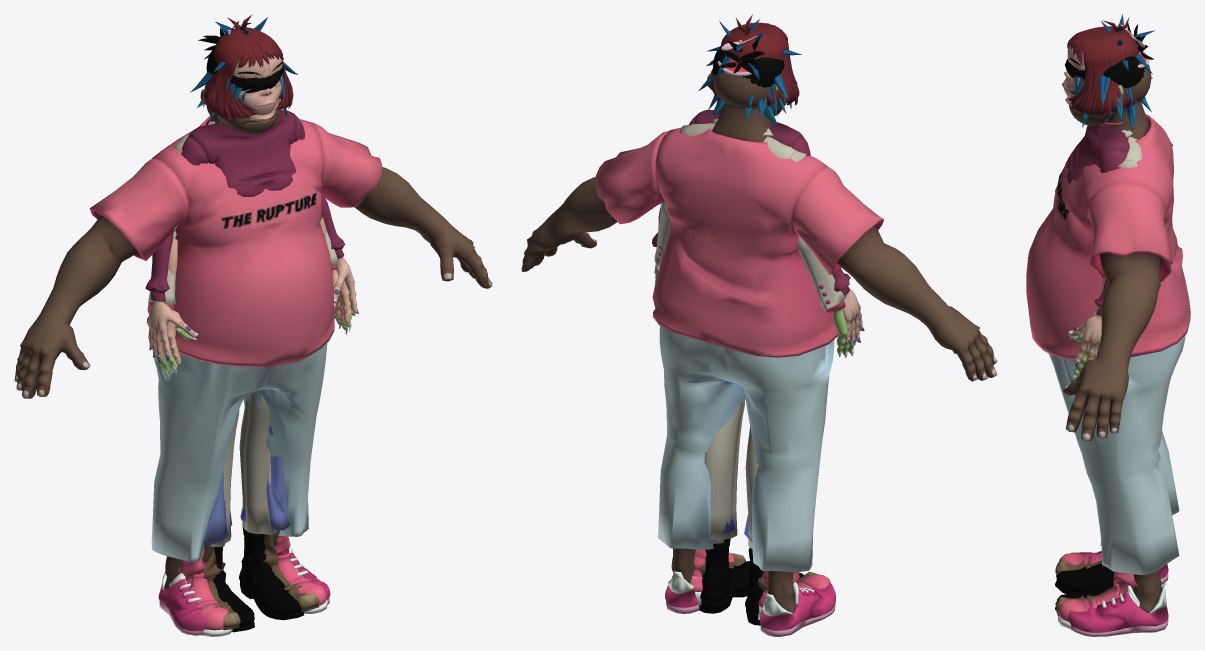
Rendered from gorillaz-phase7-web-v2.glb.
The picture shows the model from 3 angles, left to right: view 1: azimuth 30°, elevation 25°; view 2: azimuth 150°, elevation 25°; view 3: azimuth 270°, elevation 25°; orthographic projection.
Visible parts, largest first — view 1: russel_Russell_CasualClothes.smd, russel_Russell_Body_Cut.smd, noodle_NXA__Noodle_Noodle_Jumper_geo_001.smd, murdoc_Murdoc_SuitPants.smd, noodle_NXA__Noodle_noodle_hair_geo_001.smd, murdoc_Murdoc_SuitShoes.smd, noodle_NXA__Noodle_Noodle_Boots_geo_001.smd, twod_TwoD_Pants_geo.smd, twod_TwoD_Boots_geo.smd, noodle_NXA__Noodle_Noodle_Body_geo_001.smd, noodle_NXA__Noodle_Noodle_Head1_geo_001.smd, twod_TwoD_Body_geo.smd (+4 smaller); view 2: russel_Russell_CasualClothes.smd, russel_Russell_Body_Cut.smd, murdoc_Murdoc_SuitPants.smd, murdoc_Murdoc_SuitShoes.smd, russel_Russell_Head.smd, murdoc_Murdoc_SuitVest.smd, noodle_NXA__Noodle_noodle_hair_geo_001.smd, twod_TwoD_HairFull_geo.smd, murdoc_Murdoc_Hair.smd, noodle_NXA__Noodle_Noodle_Jumper_geo_001.smd, noodle_NXA__Noodle_Noodle_Boots_geo_001.smd, noodle_NXA__Noodle_Noodle_Body_geo_001.smd; view 3: russel_Russell_CasualClothes.smd, russel_Russell_Body_Cut.smd, noodle_NXA__Noodle_noodle_hair_geo_001.smd, noodle_NXA__Noodle_Noodle_Jumper_geo_001.smd, noodle_NXA__Noodle_Noodle_Boots_geo_001.smd, murdoc_Murdoc_SuitShoes.smd, russel_Russell_Head.smd, twod_TwoD_HairFull_geo.smd, murdoc_Murdoc_Hair.smd, noodle_NXA__Noodle_Noodle_Body_geo_001.smd, twod_TwoD_Boots_geo.smd, noodle_NXA__Noodle_Noodle_Head1_geo_001.smd (+1 smaller).
Boxes of the visible parts, bbox=[...] form: russel_Russell_CasualClothes.smd: bbox=[89, 116, 381, 635]; russel_Russell_Body_Cut.smd: bbox=[14, 167, 492, 589]; noodle_NXA__Noodle_Noodle_Jumper_geo_001.smd: bbox=[145, 109, 345, 301]; murdoc_Murdoc_SuitPants.smd: bbox=[210, 393, 277, 546]; noodle_NXA__Noodle_noodle_hair_geo_001.smd: bbox=[204, 15, 293, 119]; murdoc_Murdoc_SuitShoes.smd: bbox=[213, 527, 303, 632]; noodle_NXA__Noodle_Noodle_Boots_geo_001.smd: bbox=[178, 536, 327, 636]; twod_TwoD_Pants_geo.smd: bbox=[203, 425, 289, 545]; twod_TwoD_Boots_geo.smd: bbox=[202, 530, 319, 630]; noodle_NXA__Noodle_Noodle_Body_geo_001.smd: bbox=[148, 257, 358, 363]; noodle_NXA__Noodle_Noodle_Head1_geo_001.smd: bbox=[233, 55, 283, 115]; twod_TwoD_Body_geo.smd: bbox=[163, 217, 350, 368]; russel_Russell_CasualClothes.smd: bbox=[595, 127, 883, 636]; russel_Russell_Body_Cut.smd: bbox=[521, 177, 997, 613]; murdoc_Murdoc_SuitPants.smd: bbox=[704, 393, 758, 549]; murdoc_Murdoc_SuitShoes.smd: bbox=[699, 538, 803, 625]; russel_Russell_Head.smd: bbox=[707, 72, 786, 142]; murdoc_Murdoc_SuitVest.smd: bbox=[654, 118, 846, 312]; noodle_NXA__Noodle_noodle_hair_geo_001.smd: bbox=[710, 14, 799, 106]; twod_TwoD_HairFull_geo.smd: bbox=[698, 19, 801, 125]; murdoc_Murdoc_Hair.smd: bbox=[713, 37, 790, 87]; noodle_NXA__Noodle_Noodle_Jumper_geo_001.smd: bbox=[652, 109, 850, 295]; noodle_NXA__Noodle_Noodle_Boots_geo_001.smd: bbox=[690, 549, 830, 619]; noodle_NXA__Noodle_Noodle_Body_geo_001.smd: bbox=[654, 265, 864, 344]; russel_Russell_CasualClothes.smd: bbox=[1026, 114, 1190, 636]; russel_Russell_Body_Cut.smd: bbox=[1063, 252, 1162, 627]; noodle_NXA__Noodle_noodle_hair_geo_001.smd: bbox=[1067, 17, 1138, 119]; noodle_NXA__Noodle_Noodle_Jumper_geo_001.smd: bbox=[1066, 125, 1129, 315]; noodle_NXA__Noodle_Noodle_Boots_geo_001.smd: bbox=[1058, 553, 1137, 628]; murdoc_Murdoc_SuitShoes.smd: bbox=[1055, 563, 1114, 610]; russel_Russell_Head.smd: bbox=[1067, 64, 1151, 139]; twod_TwoD_HairFull_geo.smd: bbox=[1074, 14, 1154, 130]; murdoc_Murdoc_Hair.smd: bbox=[1065, 23, 1153, 87]; noodle_NXA__Noodle_Noodle_Body_geo_001.smd: bbox=[1073, 315, 1101, 366]; twod_TwoD_Boots_geo.smd: bbox=[1055, 558, 1115, 615]; noodle_NXA__Noodle_Noodle_Head1_geo_001.smd: bbox=[1061, 44, 1084, 98].
Bounding box in the file's own units: 1.2 × 1.44 × 0.3668.
4 materials, 4 textured.
